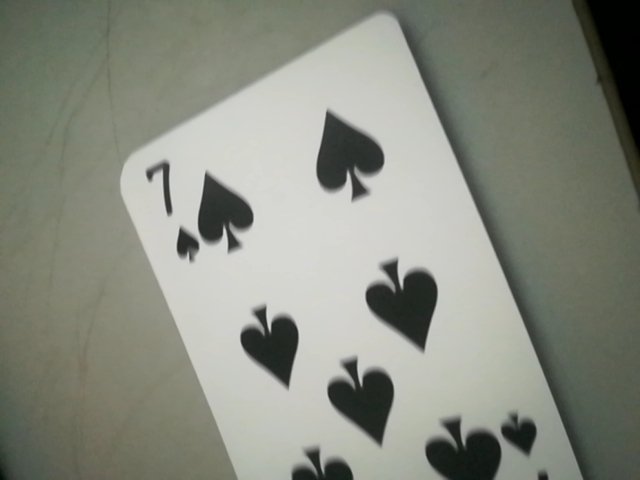ht 7: (137, 144, 201, 275)
